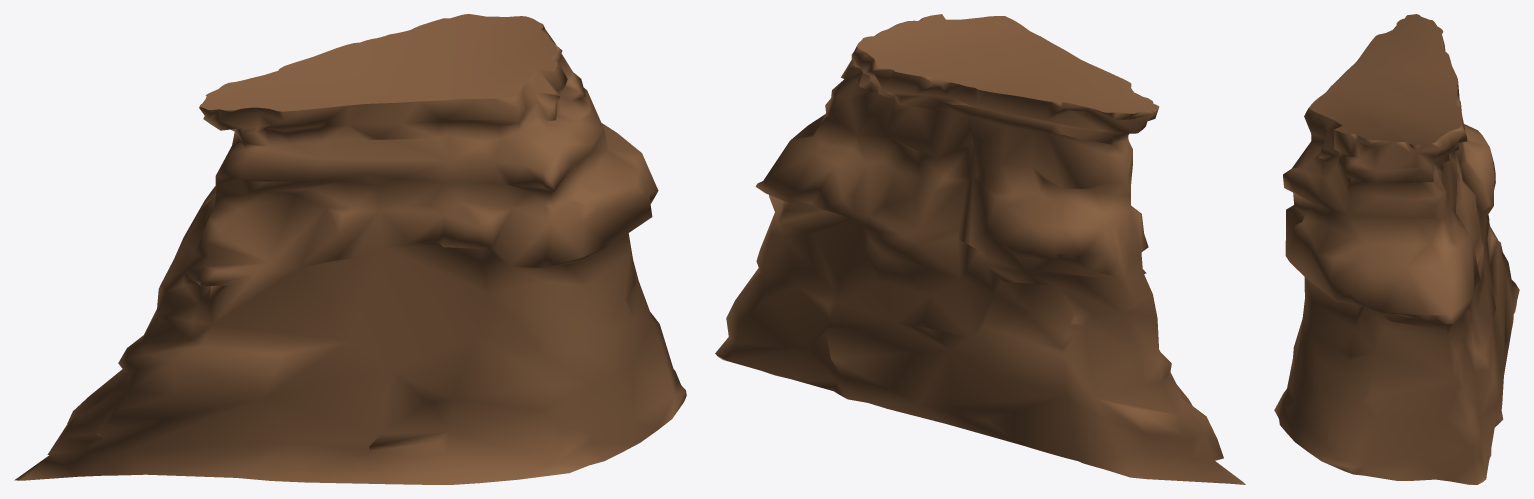
Rendered from Cliff_Pirock02.FBX.
3 renders of one model, left to right at view 1: azimuth 30°, elevation 25°; view 2: azimuth 150°, elevation 25°; view 3: azimuth 270°, elevation 25°, orthographic. The views are drawn at different scales.
Visible parts, largest first — view 1: Cliff_Pirock02; view 2: Cliff_Pirock02; view 3: Cliff_Pirock02.
Part boxes in pixels (x1,y1,x2,y2): Cliff_Pirock02: (14, 14, 686, 484); Cliff_Pirock02: (715, 14, 1245, 484); Cliff_Pirock02: (1274, 14, 1519, 484).
Size of the model in its own units: 2946 by 1679 by 1290.
